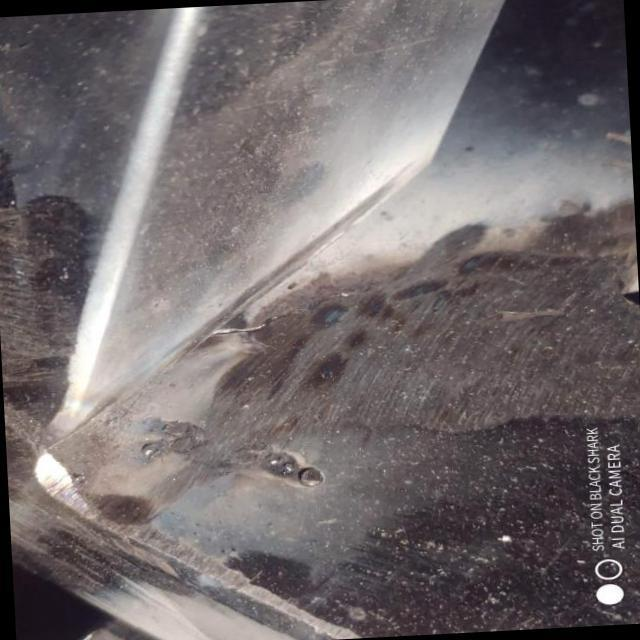defect: (207, 286, 360, 337)
